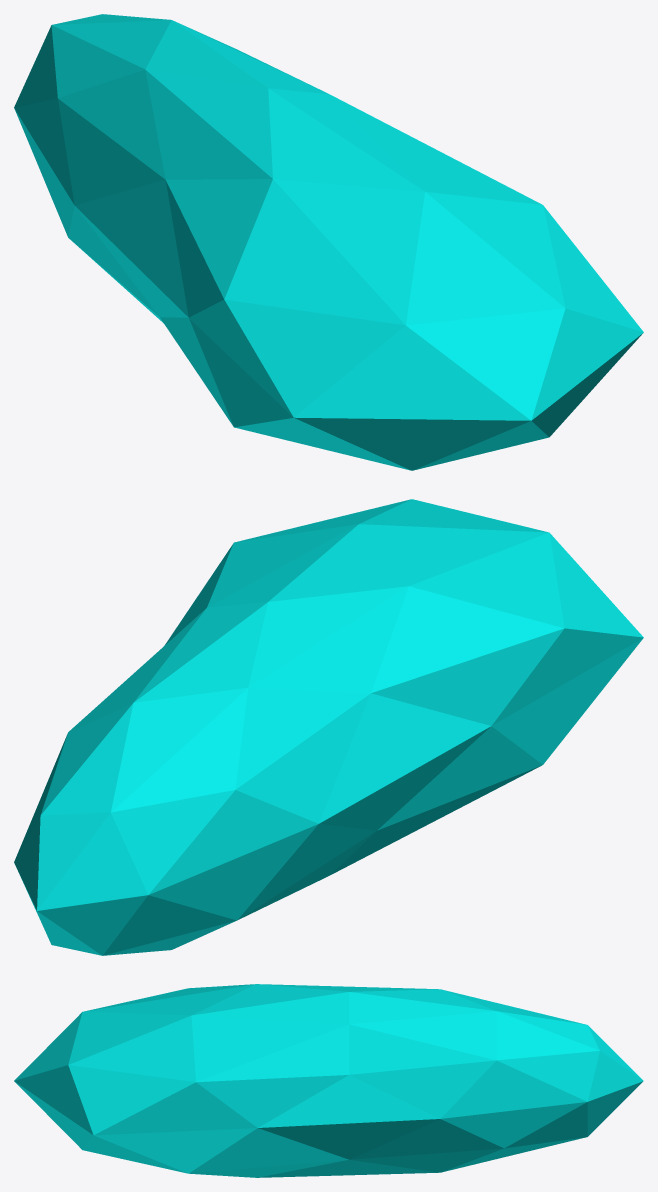
Rendered from EnemyMissileShip Shield.fbx.
3 renders of one model, top to bottom at view 1: azimuth 30°, elevation 25°; view 2: azimuth 150°, elevation 25°; view 3: azimuth 270°, elevation 25°, orthographic. The views are drawn at different scales.
Visible parts, largest first — view 1: Icosphere; view 2: Icosphere; view 3: Icosphere.
Boxes of the visible parts, x1,y1,x2,y2 form: Icosphere: (14,14,643,470); Icosphere: (14,499,643,955); Icosphere: (14,984,643,1177).
Bounding box in the file's own units: 316 × 773 × 241.
